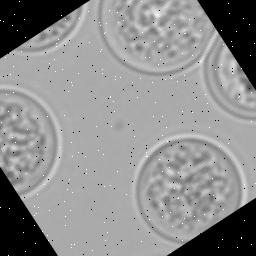picoshell: (134, 133, 248, 245), (99, 0, 218, 77), (0, 84, 65, 198), (204, 35, 256, 123), (14, 3, 90, 56)
